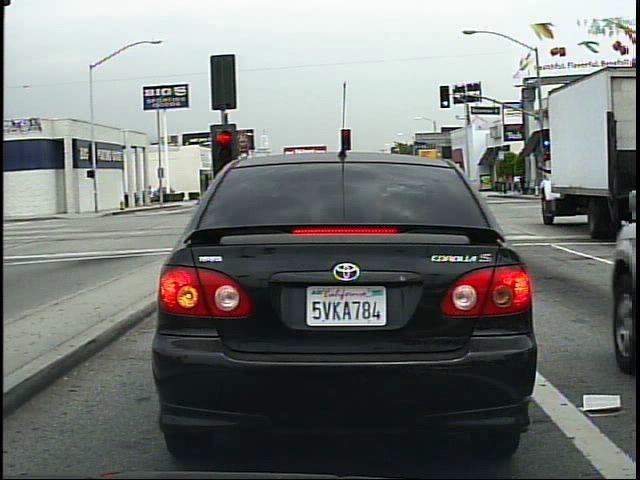person: (518, 170, 528, 196), (150, 181, 154, 209)
